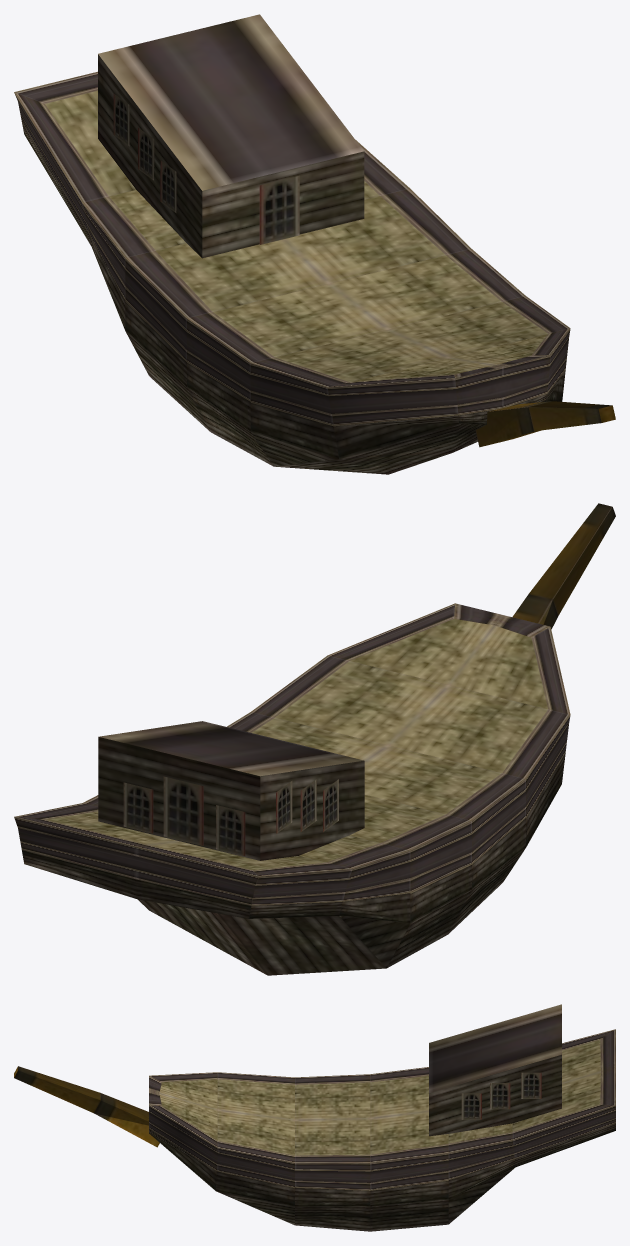
The model's file is interceptorMeter.fbx.
3 renders of one model, top to bottom at view 1: azimuth 30°, elevation 25°; view 2: azimuth 150°, elevation 25°; view 3: azimuth 270°, elevation 25°, orthographic. The views are drawn at different scales.
Visible parts, largest first — view 1: cabin, panel_4, panel_2, panel_3, panel_6, panel_1, bowsprit, panel_0, panel_5; view 2: cabin, panel_0, panel_4, panel_2, panel_1, panel_6, bowsprit, panel_3, panel_5; view 3: panel_3, cabin, panel_1, panel_5, panel_4, panel_2, bowsprit, panel_0, panel_6.
Part boxes in pixels (<box>): cabin: <box>98,14,364,258</box>; panel_4: <box>125,239,387,466</box>; panel_2: <box>250,329,502,474</box>; panel_3: <box>284,188,525,329</box>; panel_6: <box>14,92,186,330</box>; panel_1: <box>389,296,570,451</box>; bowsprit: <box>475,401,615,447</box>; panel_0: <box>14,71,97,123</box>; panel_5: <box>355,139,409,199</box>; cabin: <box>98,721,364,860</box>; panel_0: <box>14,817,386,975</box>; panel_4: <box>349,745,525,967</box>; panel_2: <box>388,615,570,847</box>; panel_1: <box>251,603,502,745</box>; panel_6: <box>238,835,410,968</box>; bowsprit: <box>512,503,615,629</box>; panel_3: <box>227,712,387,761</box>; panel_5: <box>14,795,118,826</box>; panel_3: <box>295,1111,448,1231</box>; cabin: <box>429,1004,561,1136</box>; panel_1: <box>149,1090,294,1225</box>; panel_5: <box>448,1101,615,1223</box>; panel_4: <box>295,1067,428,1120</box>; panel_2: <box>149,1072,294,1120</box>; bowsprit: <box>14,1066,159,1147</box>; panel_0: <box>562,1029,615,1105</box>; panel_6: <box>562,1029,614,1064</box>.
Size of the model in its own units: 11.9 by 11.78 by 34.15.
Materials: 1 (1 with a texture image).
